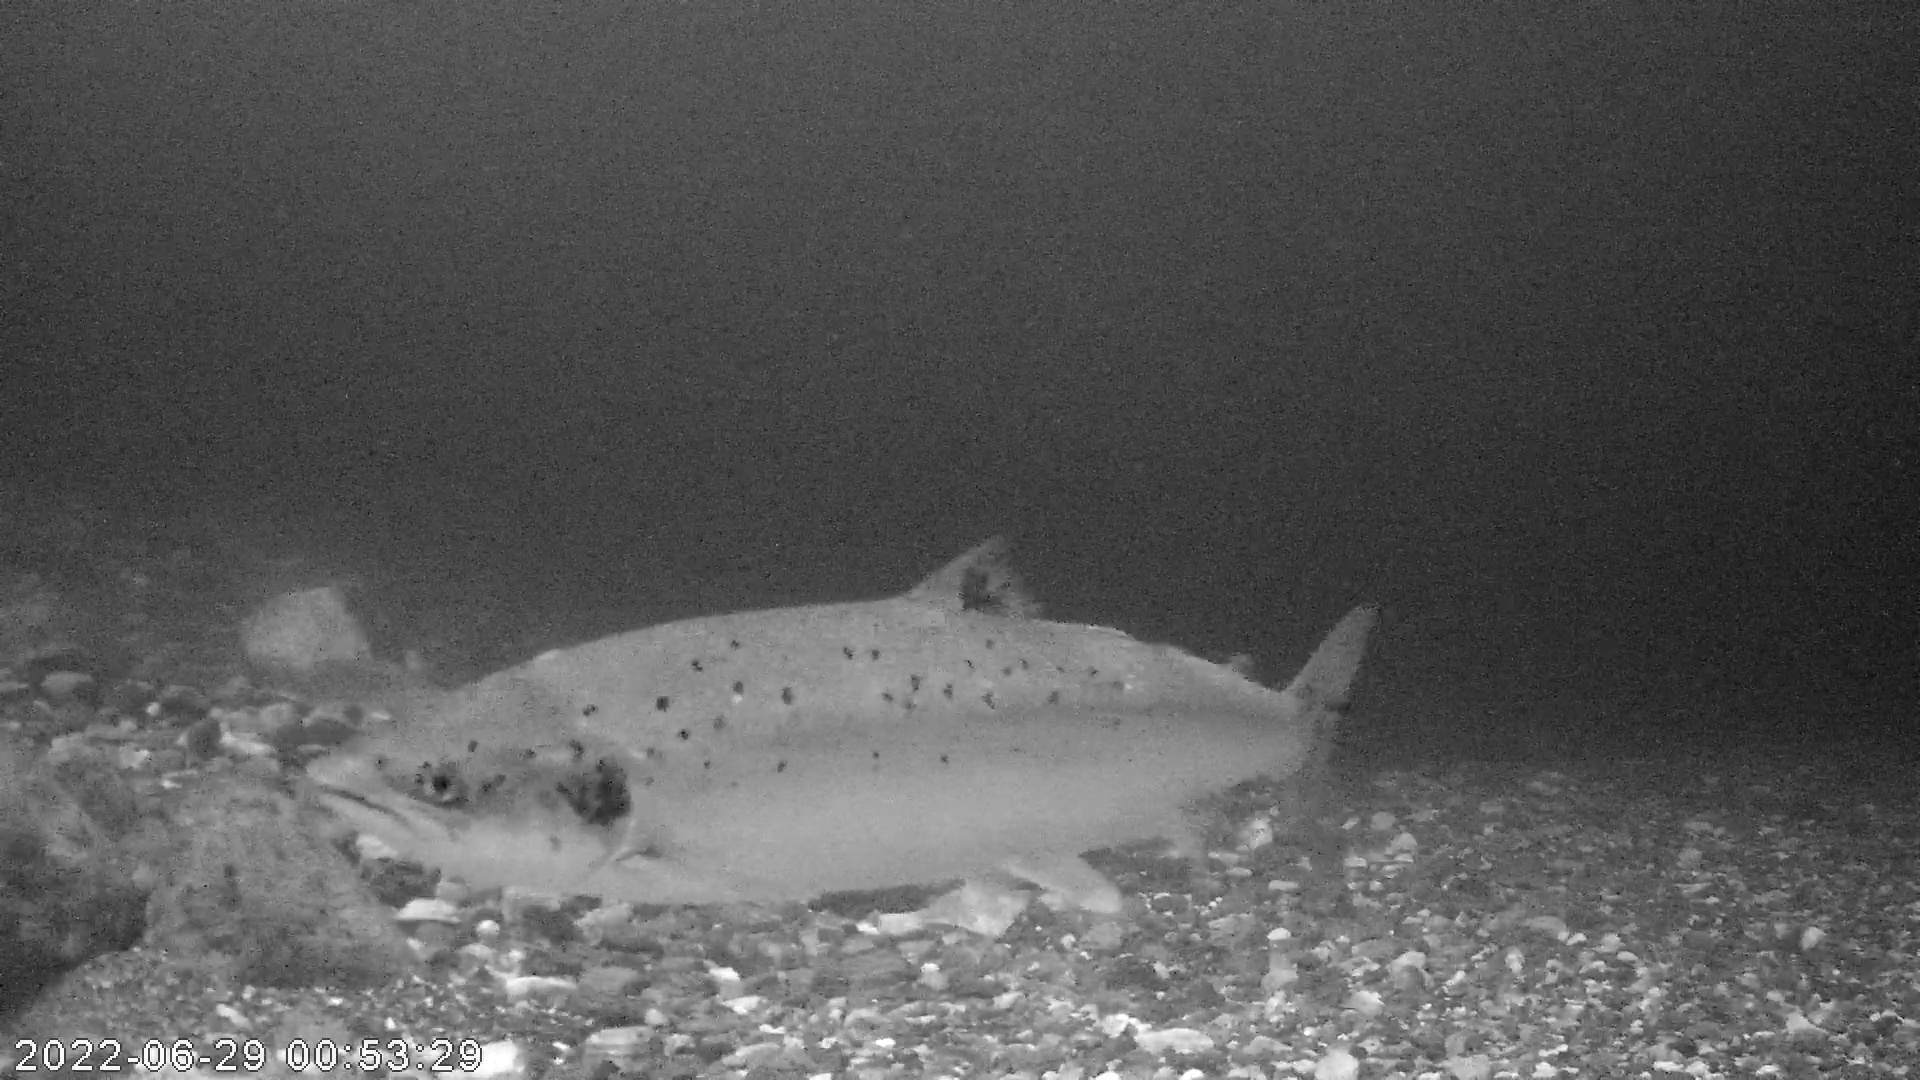salmon: (334, 483, 1341, 920)
